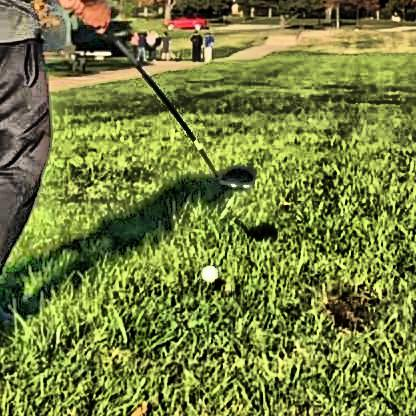golfball: (199, 261, 214, 278)
